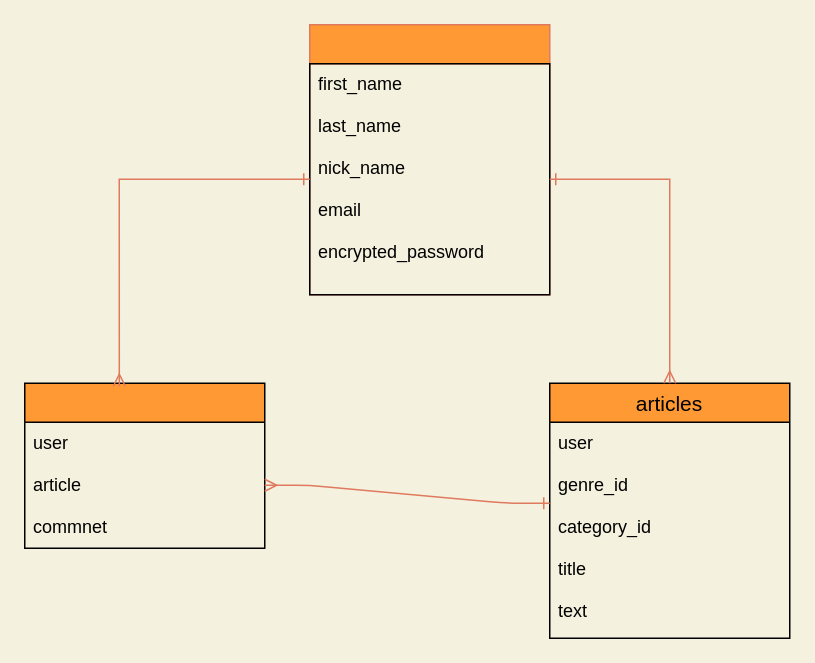
Image size: 815x663. Some labels were removed from this diagram. The shapes that lost their labels are listed below. From the top down, each one's box as (x1, y1, x2, y2) in pixels, then its label:
(308, 23, 550, 295): users
(23, 382, 265, 548): comments
